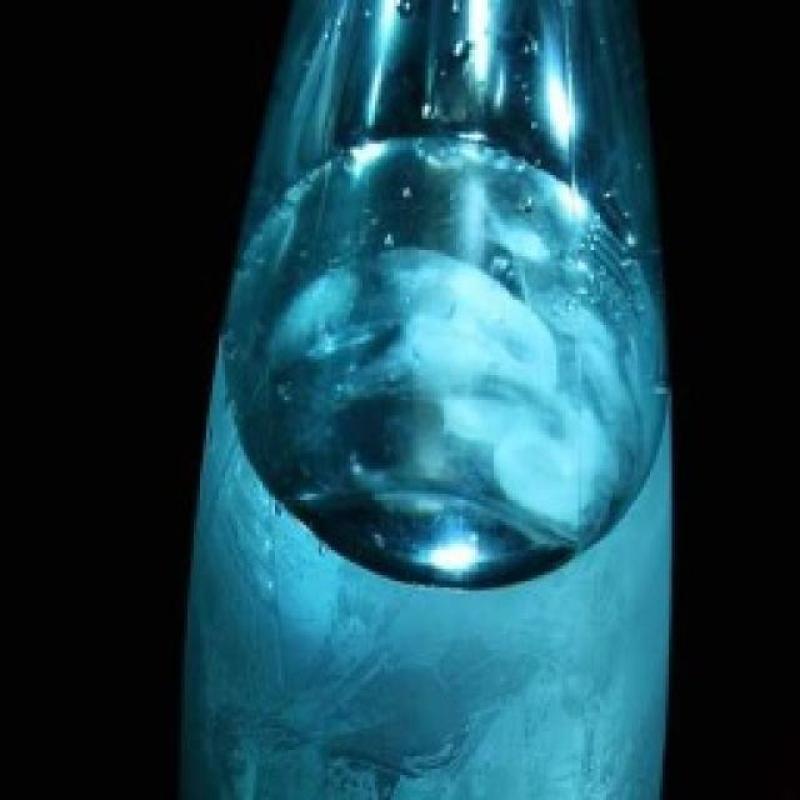botella: (186, 0, 674, 800)
